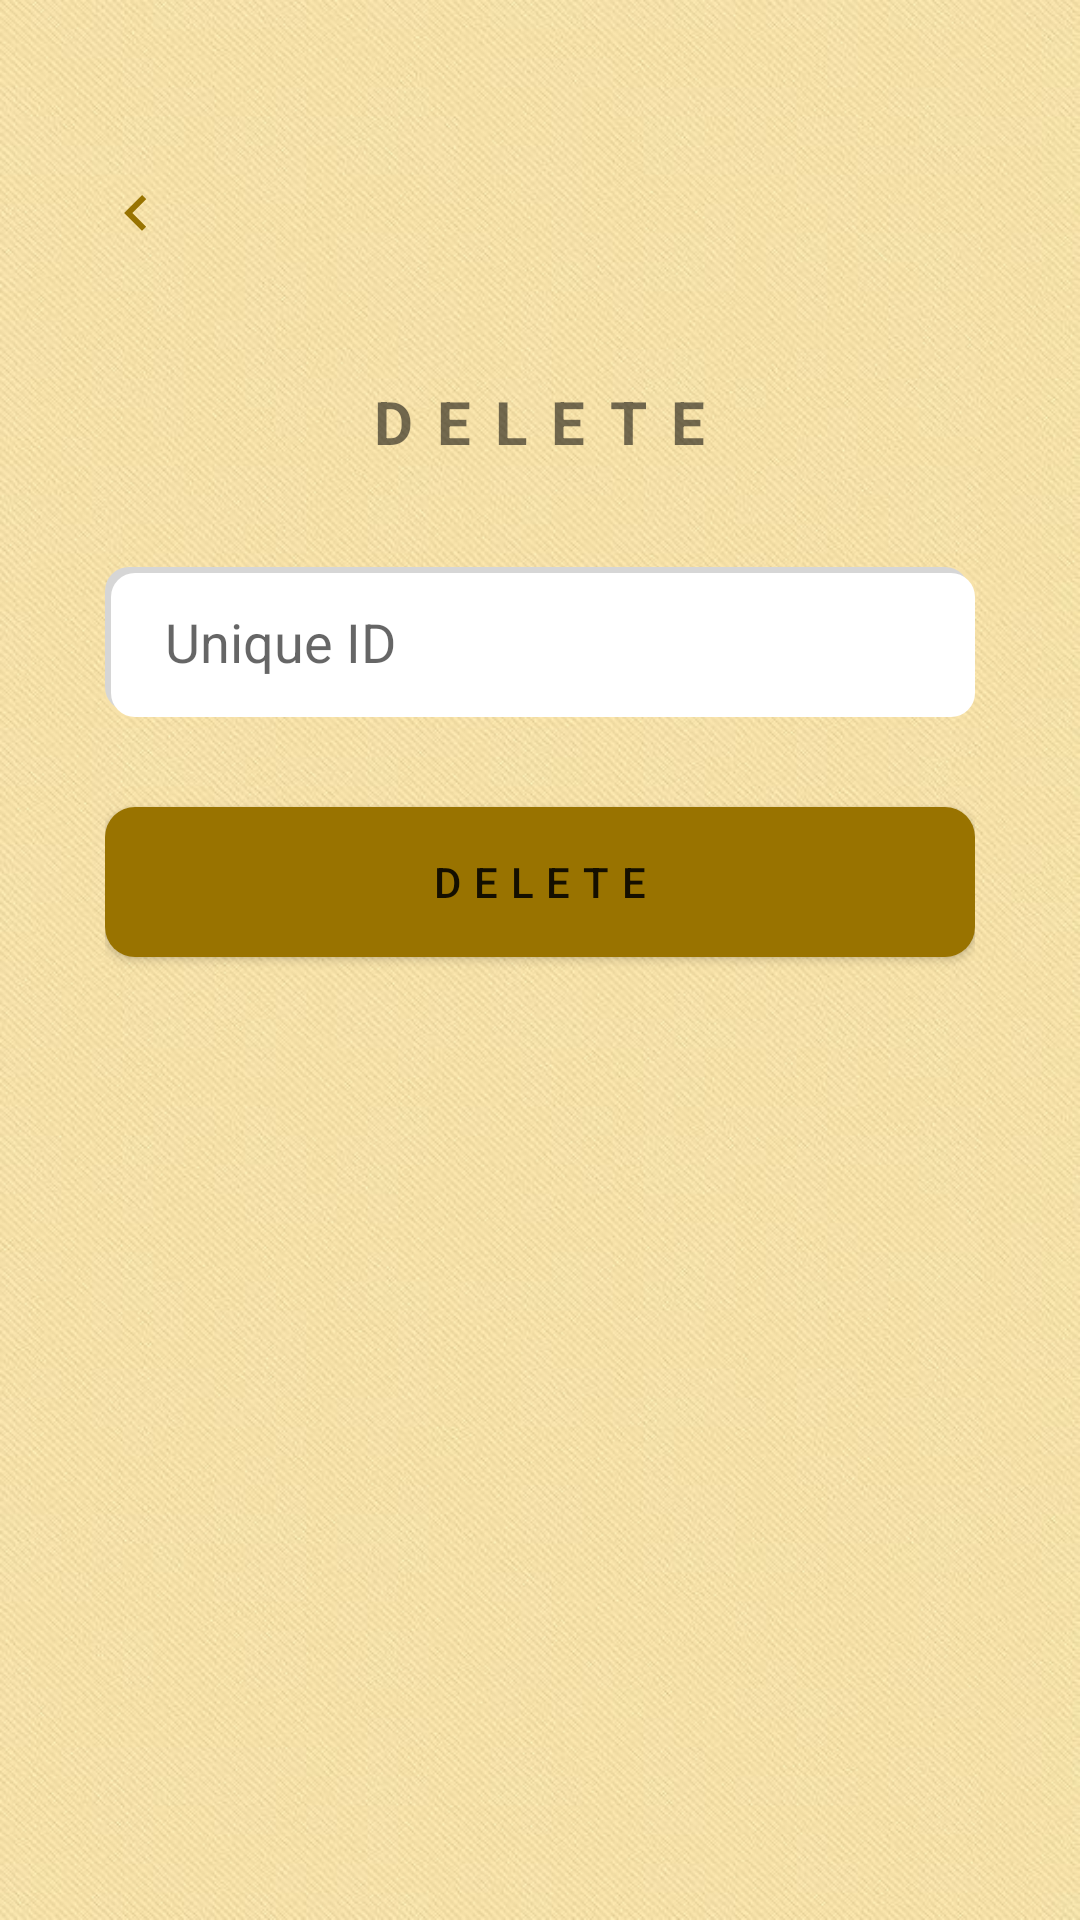

Point at icon controls on the screen. Image size 1080*1920, points as (x,y).
keyboard arrow left: (135,213)
